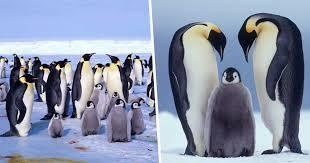emporer: (233, 12, 306, 160), (165, 17, 230, 159)
